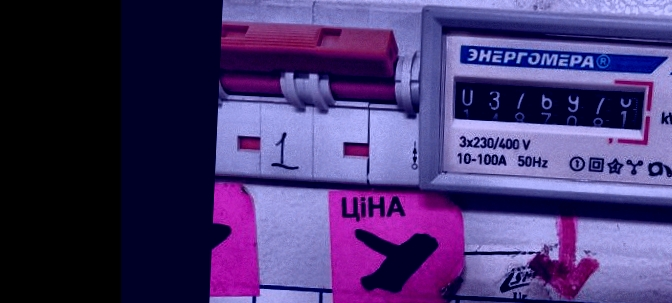0: (460, 83, 475, 106)
1: (617, 107, 630, 128)
3: (487, 88, 503, 110)
6: (539, 86, 555, 110)
7: (512, 86, 528, 109), (593, 91, 608, 115)
9: (565, 89, 581, 113)
screen: (442, 66, 657, 148)
